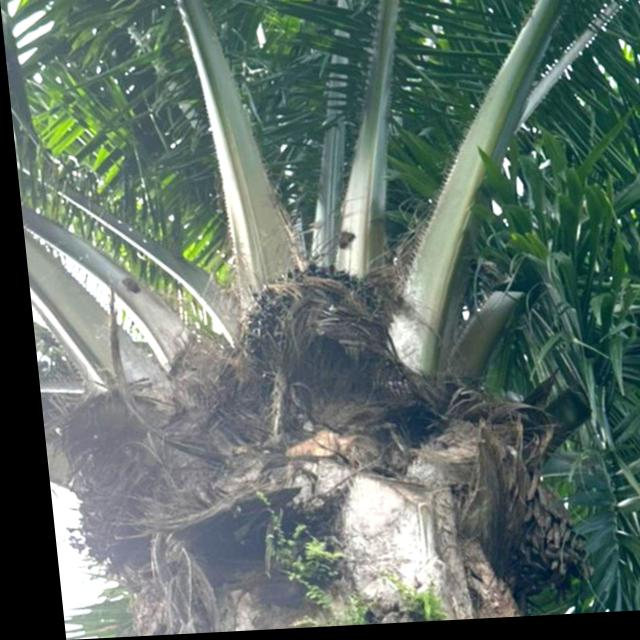unripe: (229, 256, 406, 421)
